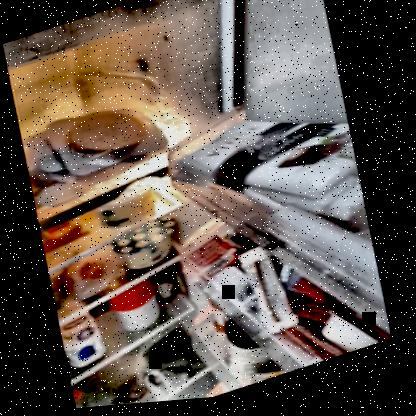chocolate: (173, 97, 366, 239)
milk: (56, 298, 116, 372)
salami: (53, 93, 165, 181)
tomato: (71, 254, 118, 292)
yoghurt: (109, 218, 186, 277), (97, 182, 166, 236)
